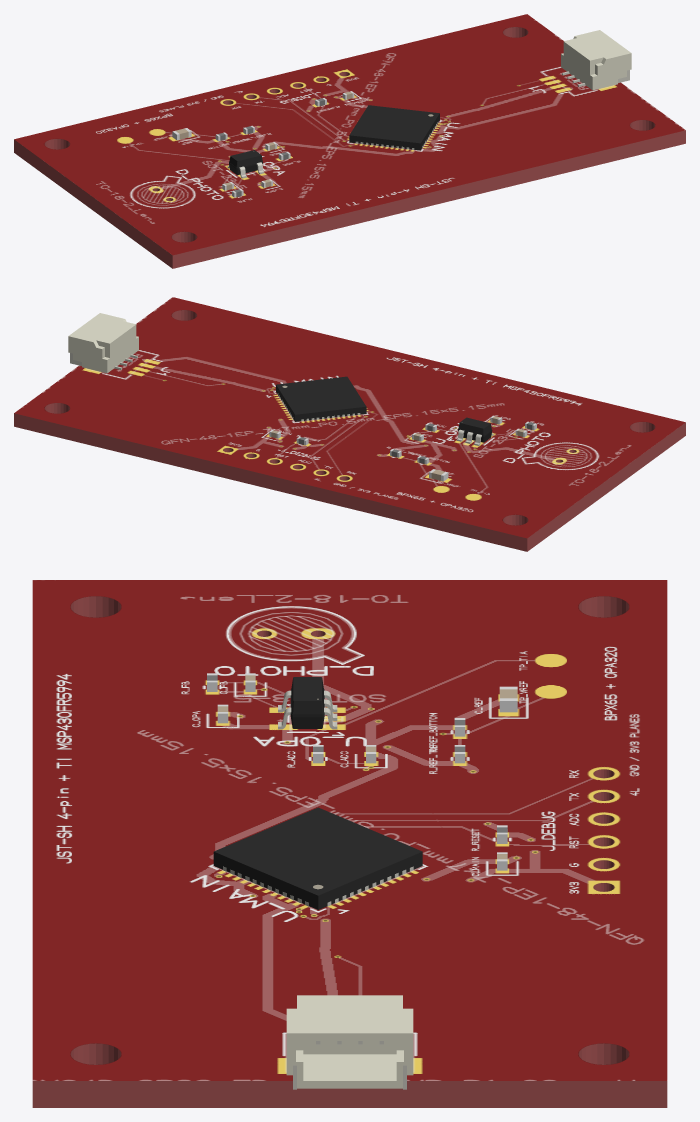
3 renders of one model, top to bottom at view 1: azimuth 30°, elevation 25°; view 2: azimuth 150°, elevation 25°; view 3: azimuth 270°, elevation 25°, orthographic. The views are drawn at different scales.
Visible parts, largest first — view 1: Box0, J1, U_MAIN, U_OPA; view 2: Box0, J1, U_MAIN, U_OPA; view 3: Box0, U_MAIN, J1, U_OPA.
Boxes of the visible parts, bbox=[...] form: Box0: bbox=[14, 14, 685, 268]; J1: bbox=[561, 30, 631, 90]; U_MAIN: bbox=[349, 105, 439, 150]; U_OPA: bbox=[227, 150, 264, 178]; Box0: bbox=[14, 297, 685, 551]; J1: bbox=[68, 313, 138, 373]; U_MAIN: bbox=[276, 376, 366, 421]; U_OPA: bbox=[456, 417, 493, 445]; Box0: bbox=[32, 580, 667, 1107]; U_MAIN: bbox=[213, 807, 422, 909]; J1: bbox=[286, 995, 413, 1089]; U_OPA: bbox=[278, 677, 337, 729].
Size of the model in its own units: 57 by 4.36 by 30.
10 materials, 2 textured.
